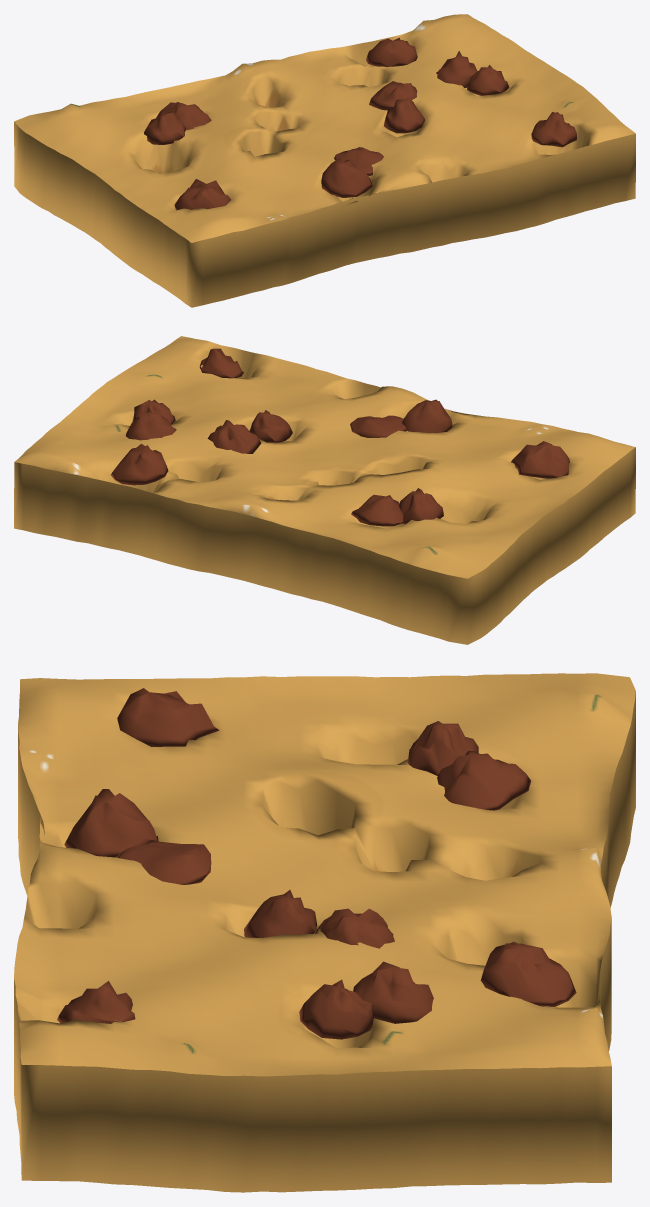
The model's file is focaccia--olive-flesh.glb.
3 renders of one model, top to bottom at view 1: azimuth 30°, elevation 25°; view 2: azimuth 150°, elevation 25°; view 3: azimuth 270°, elevation 25°, orthographic. The views are drawn at different scales.
Bounding box in the file's own units: 2.09 × 0.3836 × 1.36.
Materials: 2 (1 with a texture image).
